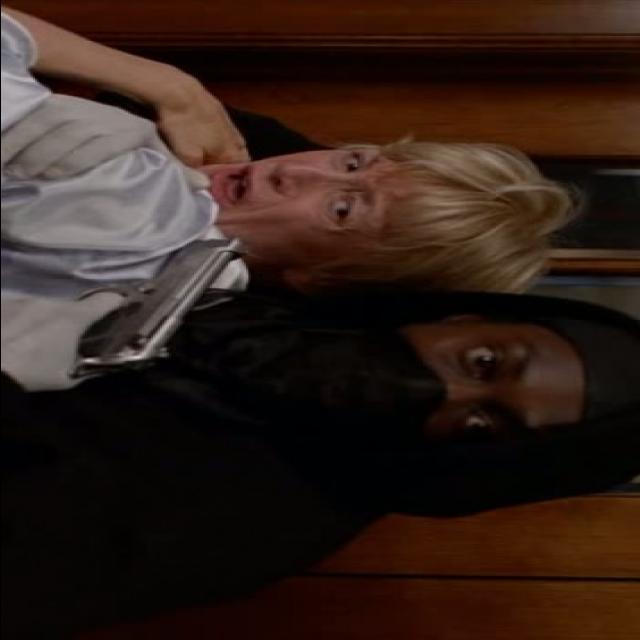weapons: (13, 236, 259, 384)
